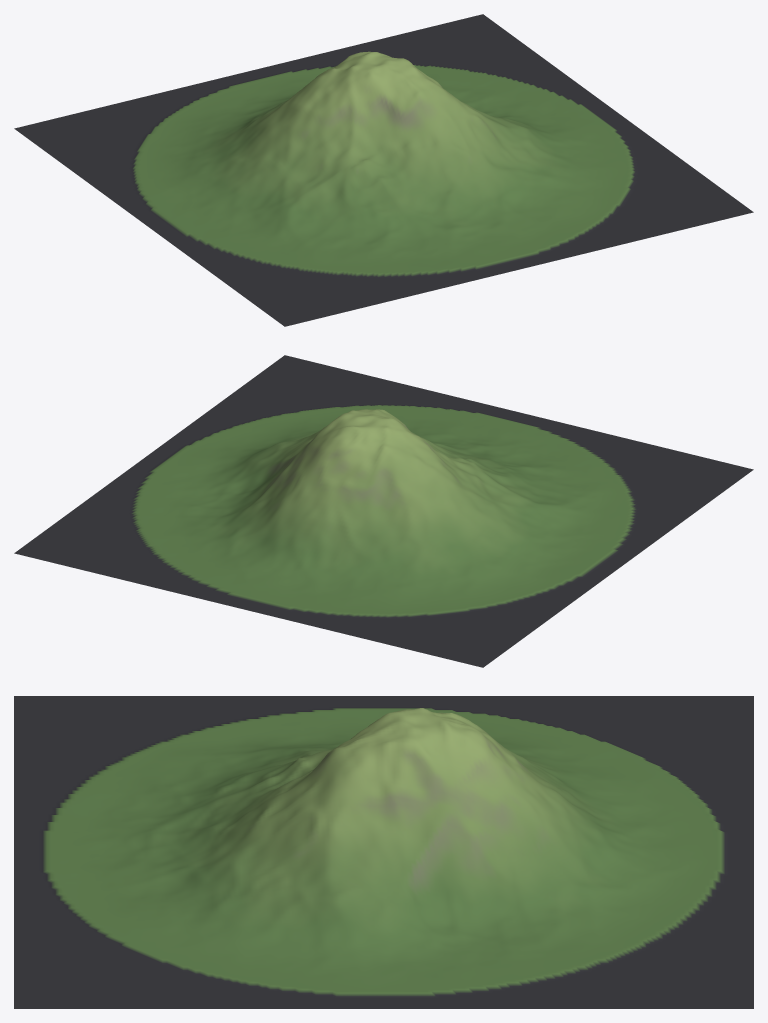
The model's file is Rolling_Highlands.fbx.
The picture shows the model from 3 angles, top to bottom: view 1: azimuth 30°, elevation 25°; view 2: azimuth 150°, elevation 25°; view 3: azimuth 270°, elevation 25°; orthographic projection. The views are drawn at different scales.
Parts seen in each view (by area): view 1: Rolling_Highlands; view 2: Rolling_Highlands; view 3: Rolling_Highlands.
Boxes of the visible parts, x1,y1,x2,y2 form: Rolling_Highlands: (14, 14, 753, 326); Rolling_Highlands: (14, 355, 753, 667); Rolling_Highlands: (14, 696, 753, 1008).
Size of the model in its own units: 2000 by 403 by 2000.
